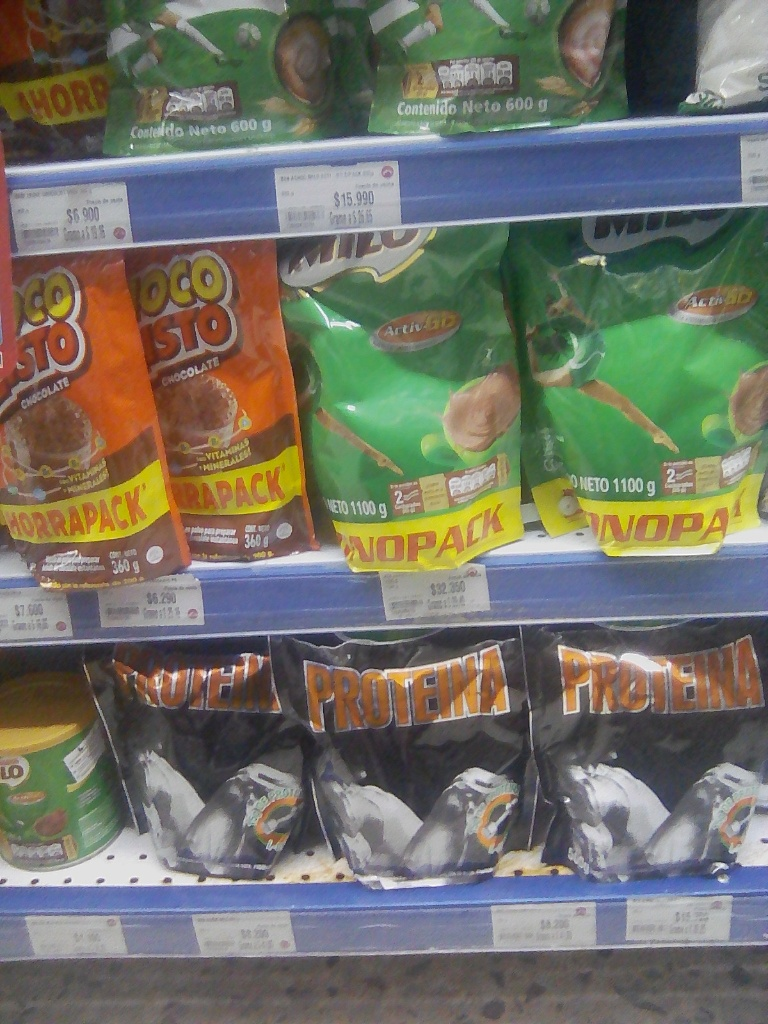COL0170103DYP36000: (128, 244, 317, 566)
COL0170203LAT40000: (0, 676, 132, 872)
